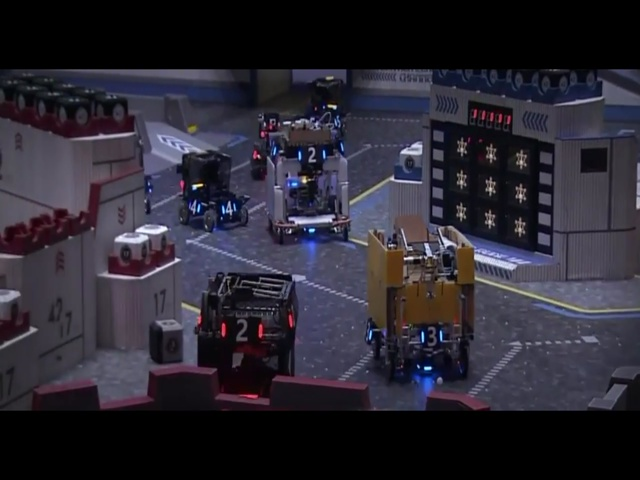bluePlate: (294, 144, 331, 168), (417, 326, 444, 352), (360, 316, 377, 344), (221, 198, 239, 220), (186, 196, 203, 217), (270, 138, 284, 161)
redPlate: (216, 313, 265, 348), (285, 296, 298, 333)
